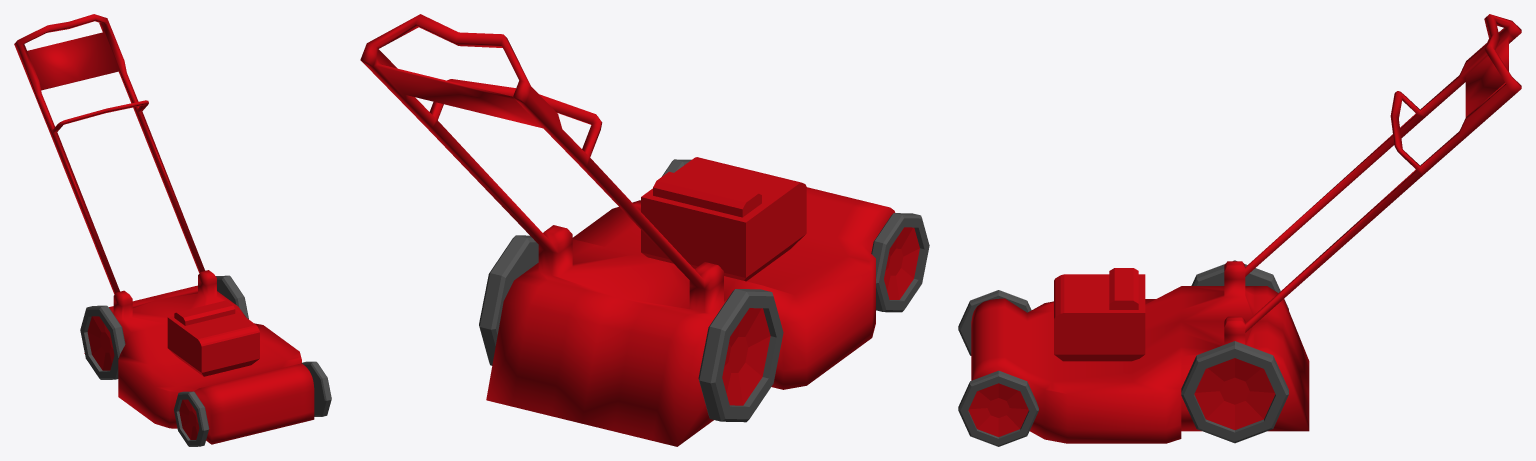
The model's file is mawnlower.fbx.
3 views of the same model, side by side, from view 1: azimuth 30°, elevation 25°; view 2: azimuth 150°, elevation 25°; view 3: azimuth 270°, elevation 25° (orthographic). The views are drawn at different scales.
Visible parts, largest first — view 1: LawnMower; view 2: LawnMower; view 3: LawnMower.
Part boxes in pixels (<box>): LawnMower: <box>14,14,331,446</box>; LawnMower: <box>360,14,929,446</box>; LawnMower: <box>958,14,1521,446</box>.
Size of the model in its own units: 392 by 720 by 979.
